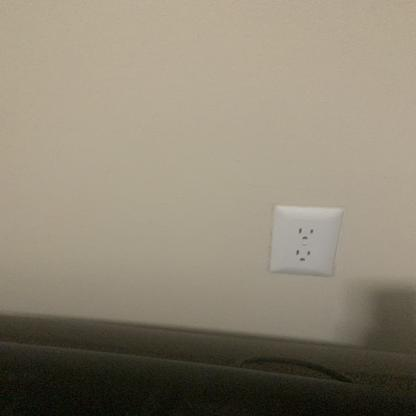OUTLET: (272, 206, 340, 277)
